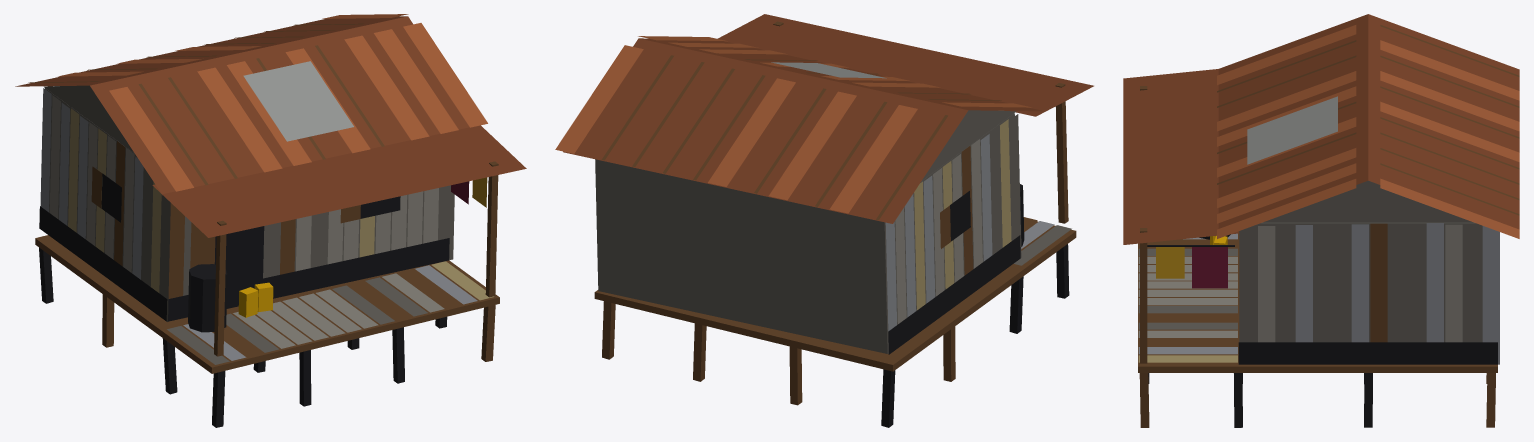
File: building_makoko-house_f.glb
3 renders of one model, left to right at view 1: azimuth 30°, elevation 25°; view 2: azimuth 150°, elevation 25°; view 3: azimuth 270°, elevation 25°, orthographic. The views are drawn at different scales.
Parts seen in each view (by area): view 1: body; view 2: body; view 3: body.
Part boxes in pixels (x1=…): body: x1=15, y1=14, x2=526, y2=427; body: x1=555, y1=14, x2=1093, y2=427; body: x1=1123, y1=14, x2=1519, y2=427.
Size of the model in its own units: 5.34 by 4.13 by 5.5.
